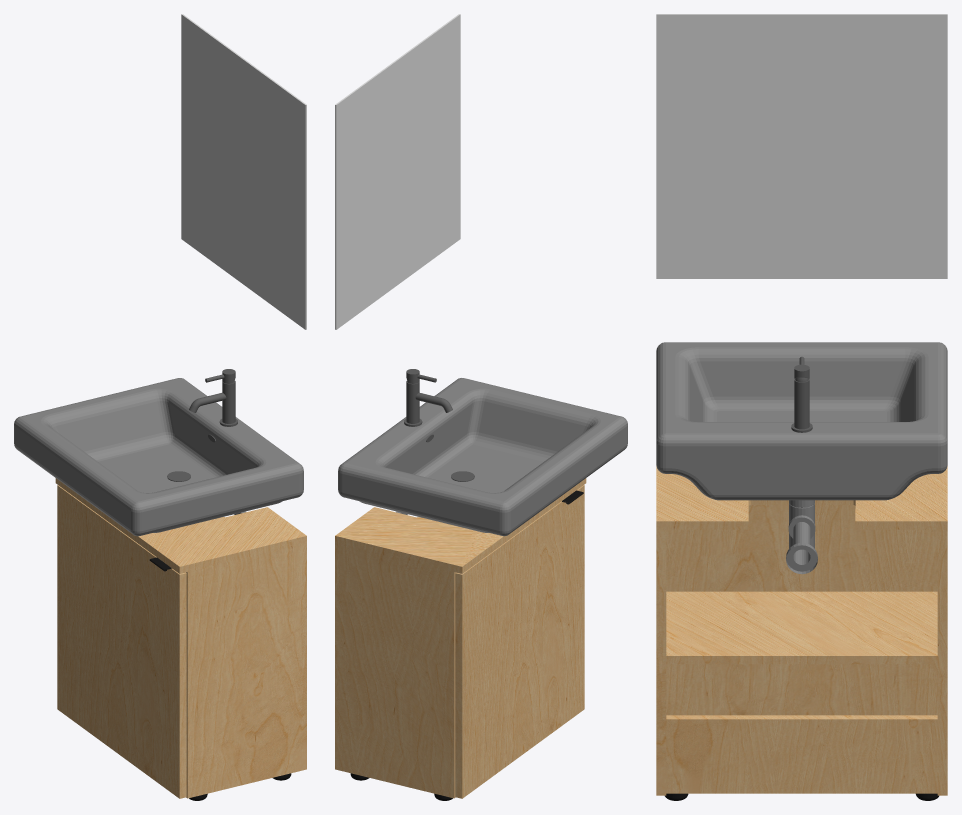
Rendered from Washbasin_light.gltf.
The picture shows the model from 3 angles, left to right: view 1: azimuth 30°, elevation 25°; view 2: azimuth 150°, elevation 25°; view 3: azimuth 270°, elevation 25°; orthographic projection. The views are drawn at different scales.
Visible parts, largest first — view 1: Washbasin_wood, Mirror, water_tap, Washbasin.001; view 2: Washbasin_wood, Mirror, water_tap, Washbasin.001; view 3: Washbasin_wood, Mirror, water_tap, Washbasin.001.
Part boxes in pixels (x1,y1,x2,y2): Washbasin_wood: (55,478,306,798); Mirror: (181,14,306,329); water_tap: (14,378,303,536); Washbasin.001: (189,369,237,426); Washbasin_wood: (335,478,586,798); Mirror: (335,14,460,329); water_tap: (338,378,627,536); Washbasin.001: (404,369,452,426); Washbasin_wood: (656,466,947,795); Mirror: (656,14,947,278); water_tap: (656,342,947,574); Washbasin.001: (791,356,812,432).
Size of the model in its own units: 0.4799 by 1.8 by 0.5996.
5 materials, 1 textured.
